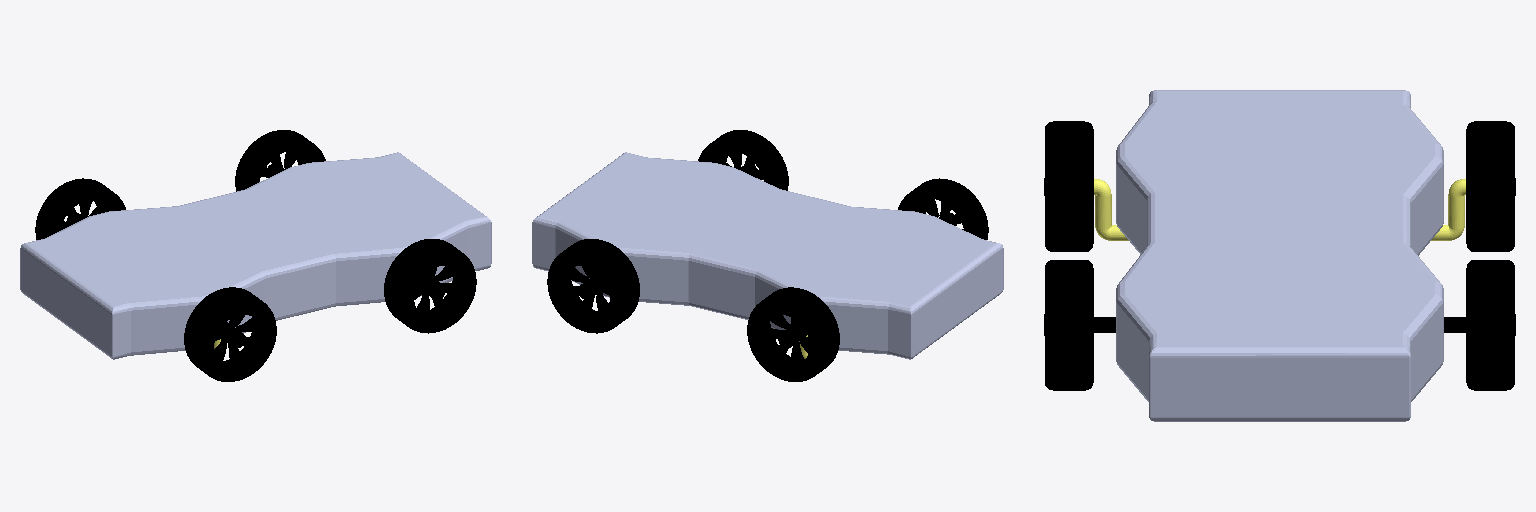
URDF robot description (trolley):
<?xml version="1.0" encoding="utf-8"?>
<!-- This URDF was automatically created by SolidWorks to URDF Exporter! Originally created by [author] ([email redacted]) 
     Commit Version: 1.6.0-1-g15f4949  Build Version: 1.6.7594.29634
     For more information, please see http://wiki.ros.org/sw_urdf_exporter -->
<robot
  name="trolley">
  <link name="dummy_link">
  </link>
  <joint name="dummy_joint" type="fixed">
    <parent link="dummy_link" />
    <child link="chassis" />
  </joint>
  <link
    name="chassis">
    <inertial>
      <origin
        xyz="-0.00067553 0.063524 0.00062688"
        rpy="0 0 0" />
      <mass
        value="54.648" />
      <inertia
        ixx="1.0016"
        ixy="0.00033127"
        ixz="0.0022985"
        iyy="5.1176"
        iyz="8.1406E-07"
        izz="4.2622" />
    </inertial>
    <visual>
      <origin
        xyz="0 0 0"
        rpy="0 0 0" />
      <geometry>
        <mesh
          filename="package://trolley/meshes/chassis.STL" />
      </geometry>
      <material
        name="">
        <color
          rgba="0.792156862745098 0.819607843137255 0.933333333333333 1" />
      </material>
    </visual>
    <collision>
      <origin
        xyz="0 0 0"
        rpy="0 0 0" />
      <geometry>
        <mesh
          filename="package://trolley/meshes/chassis.STL" />
      </geometry>
    </collision>
  </link>
  <link
    name="FR_axel">
    <inertial>
      <origin
        xyz="-0.04801 -0.012806 -4.996E-16"
        rpy="0 0 0" />
      <mass
        value="0.1024" />
      <inertia
        ixx="9.193E-05"
        ixy="-5.2127E-05"
        ixz="-1.0462E-18"
        iyy="0.00010816"
        iyz="-5.5558E-19"
        izz="0.00019184" />
    </inertial>
    <visual>
      <origin
        xyz="0 0 0"
        rpy="0 0 0" />
      <geometry>
        <mesh
          filename="package://trolley/meshes/FR_axel.STL" />
      </geometry>
      <material
        name="">
        <color
          rgba="1 1 0.50196 1" />
      </material>
    </visual>
    <collision>
      <origin
        xyz="0 0 0"
        rpy="0 0 0" />
      <geometry>
        <mesh
          filename="package://trolley/meshes/FR_axel.STL" />
      </geometry>
    </collision>
  </link>
  <joint
    name="FR_axel_joint"
    type="revolute">
    <origin
      xyz="-0.254 0.2032 0"
      rpy="-1.5708 0 -1.5708" />
    <parent
      link="chassis" />
    <child
      link="FR_axel" />
    <axis
      xyz="0 1 0" />
    <limit
      lower="-0.550"
      upper="0.550"
      effort="100"
      velocity="0.1" />
  </joint>
  <transmission name="FR_steering">
    <type>transmission_interface/SimpleTransmission</type>
    <joint name="FR_axel_joint">
      <hardwareInterface>hardware_interface/EffortJointInterface</hardwareInterface>
    </joint>
    <actuator name="FR_steer">
      <mechanicalReduction>1</mechanicalReduction>
    </actuator>
  </transmission>
  <link
    name="FR_wheel">
    <inertial>
      <origin
        xyz="0.041114161730953 0 1.61772152340589E-07"
        rpy="1.57 1.57 1.57" />
      <mass
        value="1.03504952489894" />
      <inertia
        ixx="0.00750263692233705"
        ixy="2.82859959754751E-19"
        ixz="-3.25422808154387E-09"
        iyy="0.00424007667712071"
        iyz="-1.26765657140169E-09"
        izz="0.00424007754685581" />
    </inertial>
    <visual>
      <origin
        xyz="0 0 0"
        rpy="0 0 0" />
      <geometry>
        <mesh
          filename="package://trolley/meshes/FR_wheel.STL" />
      </geometry>
      <material
        name="">
        <color
          rgba="0 0 0 1" />
      </material>
    </visual>
    <collision>
      <origin
        xyz="0 0 0"
        rpy="0 0 0" />
      <geometry>
        <mesh
          filename="package://trolley/meshes/FR_wheel.STL" />
      </geometry>
    </collision>
  </link>
  <joint
    name="FR_wheel_joint"
    type="continuous">
    <origin
      xyz="-0.08636 -0.0635 0"
      rpy="0 0 3.1416" />
    <parent
      link="FR_axel" />
    <child
      link="FR_wheel" />
    <axis
      xyz="1 0 0" />
  </joint>
  <link
    name="FL_axel">
    <inertial>
      <origin
        xyz="-0.0480098986905945 0.0128057332127979 1.11022302462516E-16"
        rpy="0 0 0" />
      <mass
        value="0.102399166634703" />
      <inertia
        ixx="9.19303034326612E-05"
        ixy="5.21271871393424E-05"
        ixz="3.51940855755766E-19"
        iyy="0.000108163475794915"
        iyz="-2.09225997439903E-19"
        izz="0.00019183579843432" />
    </inertial>
    <visual>
      <origin
        xyz="0 0 0"
        rpy="0 0 0" />
      <geometry>
        <mesh
          filename="package://trolley/meshes/FL_axel.STL" />
      </geometry>
      <material
        name="">
        <color
          rgba="1 1 0.501960784313725 1" />
      </material>
    </visual>
    <collision>
      <origin
        xyz="0 0 0"
        rpy="0 0 0" />
      <geometry>
        <mesh
          filename="package://trolley/meshes/FL_axel.STL" />
      </geometry>
    </collision>
  </link>
  <joint
    name="FL_axel_joint"
    type="revolute">
    <origin
      xyz="-0.254 -0.2032 0"
      rpy="1.5708 0 1.5708" />
    <parent
      link="chassis" />
    <child
      link="FL_axel" />
    <axis
      xyz="0 1 0" />
    <limit
      lower="-0.550"
      upper="0.550"
      effort="100"
      velocity="0.1" />
  </joint>
  <transmission name="FL_steering">
    <type>transmission_interface/SimpleTransmission</type>
    <joint name="FL_axel_joint">
      <hardwareInterface>hardware_interface/EffortJointInterface</hardwareInterface>
    </joint>
    <actuator name="FL_steer">
      <mechanicalReduction>1</mechanicalReduction>
    </actuator>
  </transmission>
  <link
    name="FL_wheel">
    <inertial>
      <origin
        xyz="0.0411141617309531 -2.4980018054066E-15 1.61772150536477E-07"
        rpy="1.57 1.57 1.57" />
      <mass
        value="1.03504952489894" />
      <inertia
        ixx="0.00750263692233705"
        ixy="-3.3461537209577E-17"
        ixz="-3.25422807026257E-09"
        iyy="0.00424007667712071"
        iyz="-1.26765657129531E-09"
        izz="0.00424007754685581" />
    </inertial>
    <visual>
      <origin
        xyz="0 0 0"
        rpy="0 0 0" />
      <geometry>
        <mesh
          filename="package://trolley/meshes/FL_wheel.STL" />
      </geometry>
      <material
        name="">
        <color
          rgba="0 0 0 1" />
      </material>
    </visual>
    <collision>
      <origin
        xyz="0 0 0"
        rpy="0 0 0" />
      <geometry>
        <mesh
          filename="package://trolley/meshes/FL_wheel.STL" />
      </geometry>
    </collision>
  </link>
  <joint
    name="FL_wheel_joint"
    type="continuous">
    <origin
      xyz="-0.08636 0.0635 0"
      rpy="-1.5708 0 3.1416" />
    <parent
      link="FL_axel" />
    <child
      link="FL_wheel" />
    <axis
      xyz="1 0 0" />
  </joint>
  <link
    name="RR_wheel">
    <inertial>
      <origin
        xyz="0.194515382739014 7.65254867869658E-07 -7.77335561197301E-07"
        rpy="0 0 0" />
      <mass
        value="1.123969088356" />
      <inertia
        ixx="0.0075097765327945"
        ixy="-7.9418378327124E-09"
        ixz="8.06720962391323E-09"
        iyy="0.00557336262080405"
        iyz="-3.48288439538588E-10"
        izz="0.00557331823532981" />
    </inertial>
    <visual>
      <origin
        xyz="0 0 0"
        rpy="0 0 0" />
      <geometry>
        <mesh
          filename="package://trolley/meshes/RR_wheel.STL" />
      </geometry>
      <material
        name="">
        <color
          rgba="0 0 0 1" />
      </material>
    </visual>
    <collision>
      <origin
        xyz="0 0 0"
        rpy="0 0 0" />
      <geometry>
        <mesh
          filename="package://trolley/meshes/RR_wheel.STL" />
      </geometry>
    </collision>
  </link>
  <joint
    name="RR_wheel_joint"
    type="continuous">
    <origin
      xyz="0.254 0.127 0.0635"
      rpy="-1.9596 0 1.5708" />
    <parent
      link="chassis" />
    <child
      link="RR_wheel" />
    <axis
      xyz="1 0 0" />
  </joint>
  <transmission name="RR_trans">
    <type>transmission_interface/SimpleTransmission</type>
    <joint name="RR_wheel_joint">
      <hardwareInterface>hardware_interface/VelocityJointInterface</hardwareInterface>
    </joint>
    <actuator name="RR_motor">
      <mechanicalReduction>1</mechanicalReduction>
    </actuator>
  </transmission>
  <link
    name="RL_wheel">
    <inertial>
      <origin
        xyz="0.194515382739014 7.84927678409986E-14 1.09080960153385E-06"
        rpy="0 0 0" />
      <mass
        value="1.123969088356" />
      <inertia
        ixx="0.0075097765327945"
        ixy="5.92935843845655E-16"
        ixz="-1.13204531372023E-08"
        iyy="0.00557334042739856"
        iyz="-2.21954699300853E-08"
        izz="0.0055733404287353" />
    </inertial>
    <visual>
      <origin
        xyz="0 0 0"
        rpy="0 0 0" />
      <geometry>
        <mesh
          filename="package://trolley/meshes/RL_wheel.STL" />
      </geometry>
      <material
        name="">
        <color
          rgba="0 0 0 1" />
      </material>
    </visual>
    <collision>
      <origin
        xyz="0 0 0"
        rpy="0 0 0" />
      <geometry>
        <mesh
          filename="package://trolley/meshes/RL_wheel.STL" />
      </geometry>
    </collision>
  </link>
  <joint
    name="RL_wheel_joint"
    type="continuous">
    <origin
      xyz="0.254 -0.127 0.0635"
      rpy="-1.7639 0 -1.5708" />
    <parent
      link="chassis" />
    <child
      link="RL_wheel" />
    <axis
      xyz="1 0 0" />
  </joint>
  <transmission name="RL_trans">
    <type>transmission_interface/SimpleTransmission</type>
    <joint name="RL_wheel_joint">
      <hardwareInterface>hardware_interface/VelocityJointInterface</hardwareInterface>
    </joint>
    <actuator name="RL_motor">
      <mechanicalReduction>1</mechanicalReduction>
    </actuator>
  </transmission>
</robot>

--- Render facts (derived) ---
Views: 3 orthographic renders of the robot side by side, from view 1: azimuth 30°, elevation 25°; view 2: azimuth 150°, elevation 25°; view 3: azimuth 270°, elevation 25°.
Robot: trolley — 8 links, 7 joints (2 revolute, 4 continuous, 1 fixed); root link dummy_link; default pose: all joints at 0.
Visible links, largest first — view 1: chassis, RL_wheel, FL_wheel, RR_wheel, FR_wheel; view 2: chassis, RR_wheel, FR_wheel, RL_wheel, FL_wheel; view 3: chassis, RL_wheel, RR_wheel, FR_wheel, FL_wheel, FR_axel, FL_axel.
Link boxes in pixels (<box>): chassis: <box>20,152,491,359</box>; RL_wheel: <box>384,239,476,333</box>; FL_wheel: <box>184,287,276,381</box>; RR_wheel: <box>235,130,325,191</box>; FR_wheel: <box>35,178,125,239</box>; chassis: <box>532,152,1003,359</box>; RR_wheel: <box>547,239,639,333</box>; FR_wheel: <box>747,287,839,381</box>; RL_wheel: <box>698,130,788,190</box>; FL_wheel: <box>898,178,988,239</box>; chassis: <box>1116,90,1443,421</box>; RL_wheel: <box>1044,260,1115,390</box>; RR_wheel: <box>1444,260,1515,390</box>; FR_wheel: <box>1466,121,1515,251</box>; FL_wheel: <box>1044,121,1093,251</box>; FR_axel: <box>1431,179,1465,240</box>; FL_axel: <box>1094,179,1128,240</box>.
Bounding box of the posed robot: 0.9652 × 0.7315 × 0.2032 m (x, y, z).
Meshes: 7 distinct files referenced, 7 mesh visuals loaded (7 binary STL).